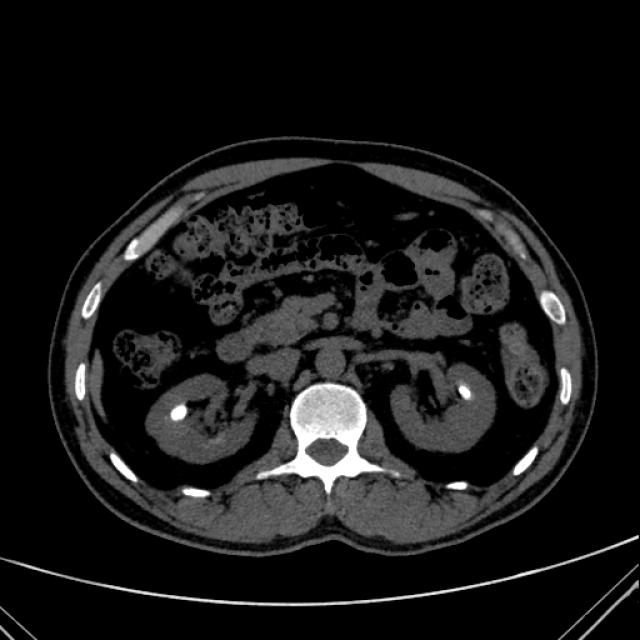kidneystone: (170, 404, 188, 421), (460, 384, 471, 399)
